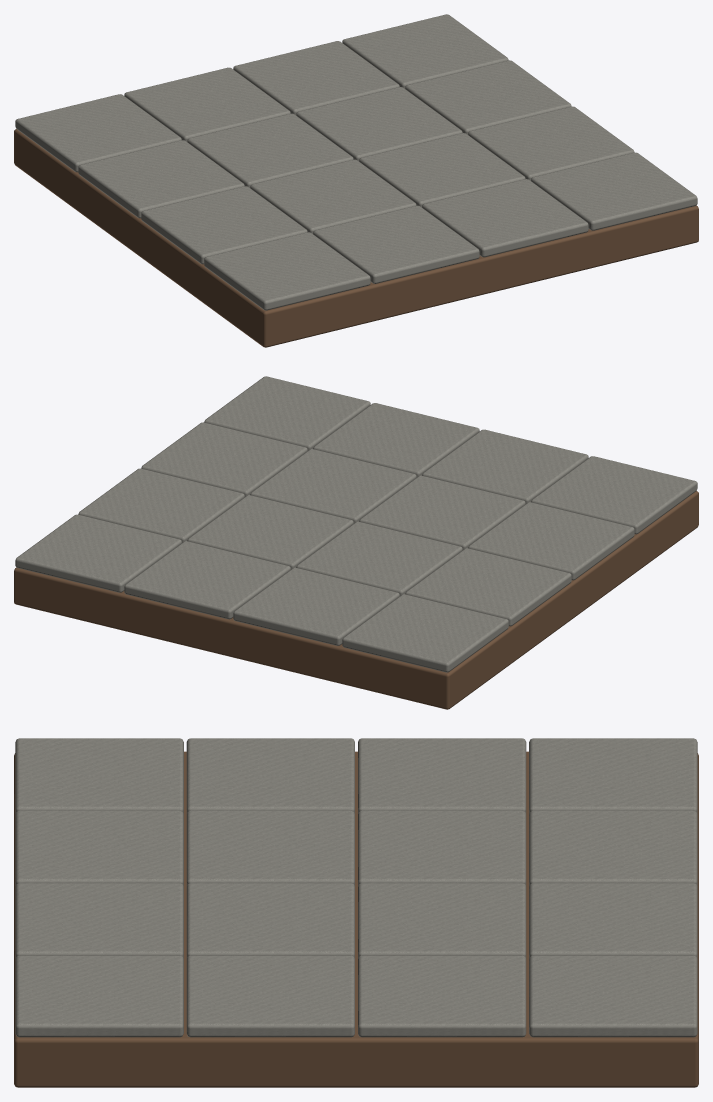
The model's file is adventurers-tavern-and-guild-hall-flagstone-tile-d700ecdb__24671.glb.
3 renders of one model, top to bottom at view 1: azimuth 30°, elevation 25°; view 2: azimuth 150°, elevation 25°; view 3: azimuth 270°, elevation 25°, orthographic. The views are drawn at different scales.
Visible parts, largest first — view 1: flagstone-tile; view 2: flagstone-tile; view 3: flagstone-tile.
Boxes of the visible parts, bbox=[...] form: flagstone-tile: bbox=[14, 14, 698, 347]; flagstone-tile: bbox=[14, 376, 698, 709]; flagstone-tile: bbox=[14, 738, 698, 1087].
Bounding box in the file's own units: 2 × 0.205 × 2.
Materials: 2 (1 with a texture image).
